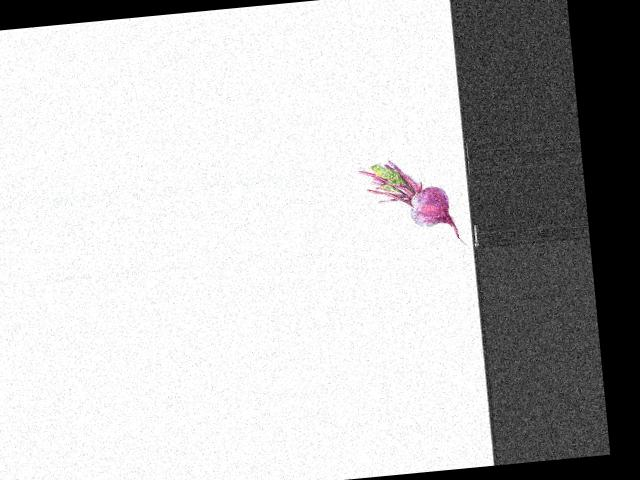beet: (357, 153, 468, 255)
